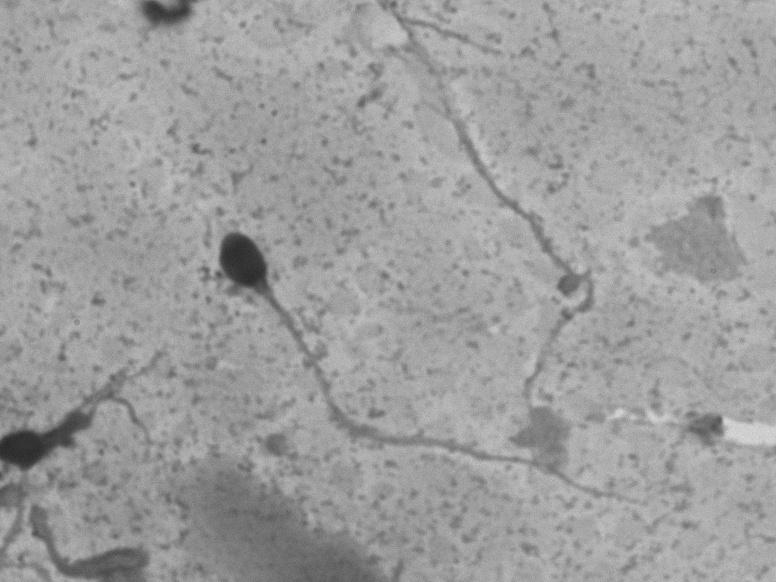Normal: (198, 212, 661, 513)
